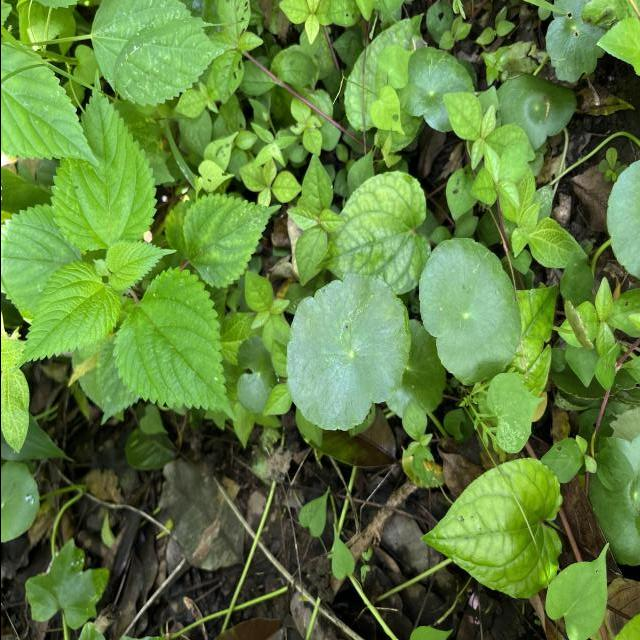Bacopa monnieri: (283, 271, 412, 435), (415, 235, 522, 386)
